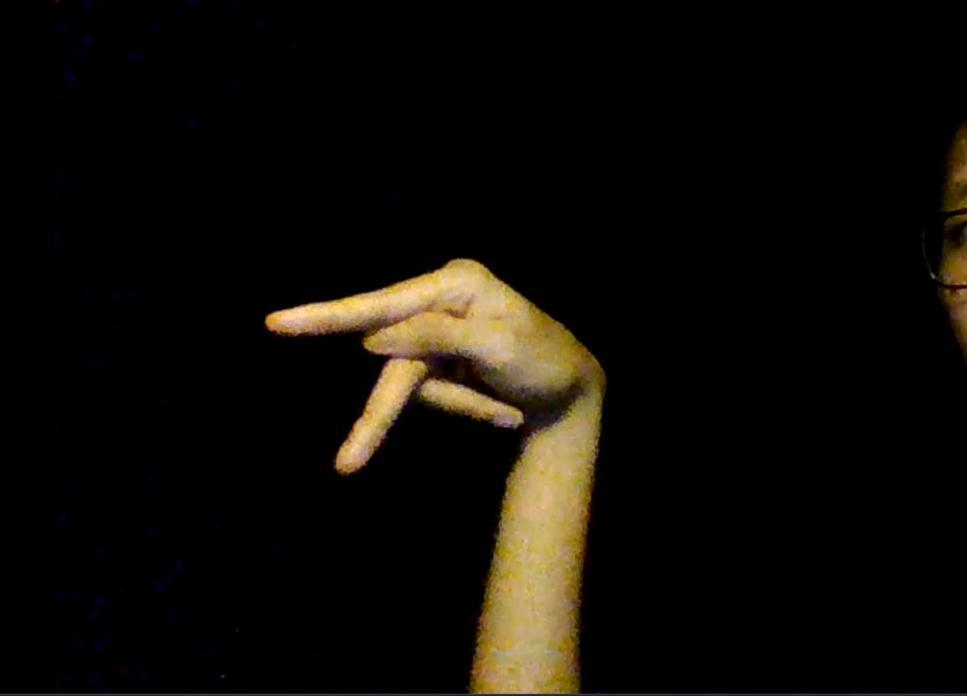p: (267, 257, 609, 474)
